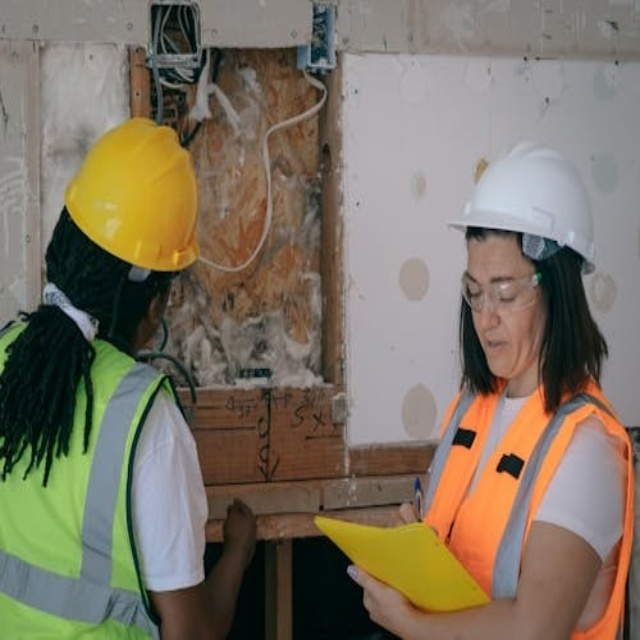Gafas: (457, 261, 545, 321)
Sin_guantes: (343, 564, 419, 638), (218, 490, 262, 565)
Sin_mascara: (477, 328, 520, 375)
